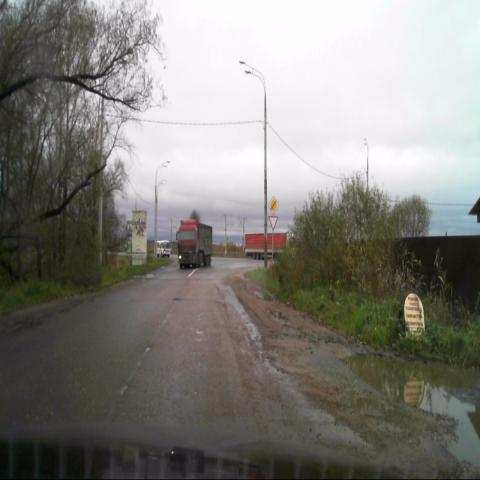2_2: (267, 195, 279, 216)
